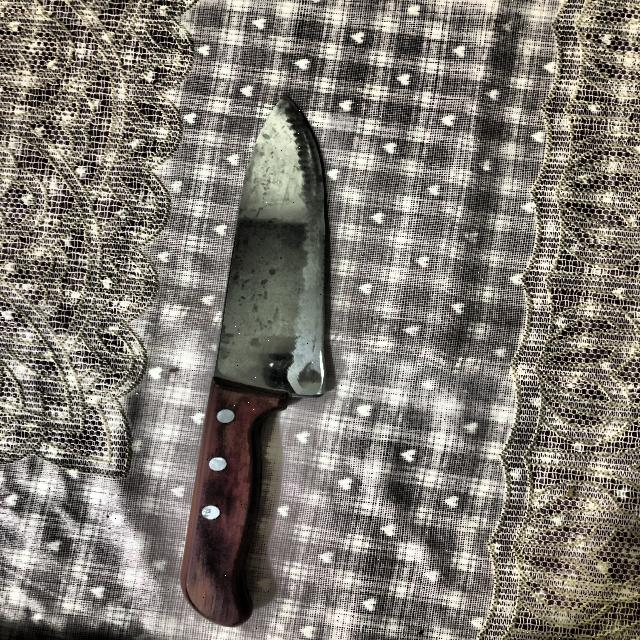knife: (180, 94, 328, 626)
